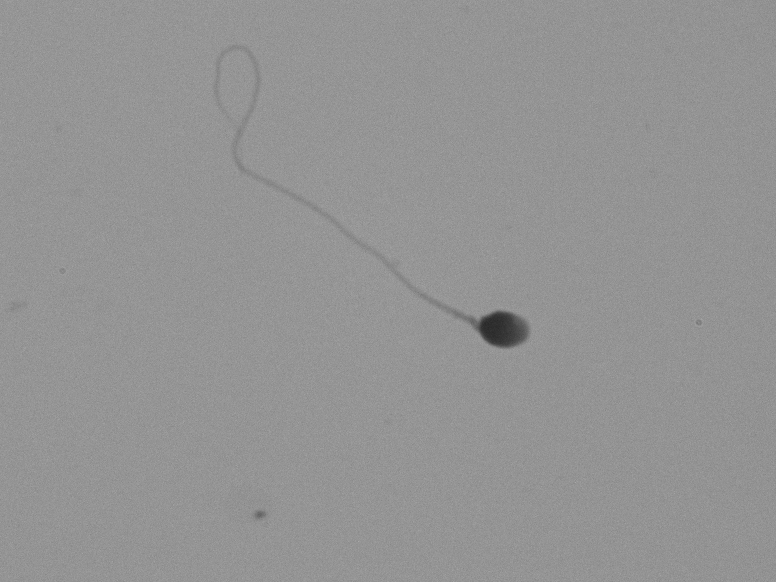Normal: (203, 36, 562, 453)
